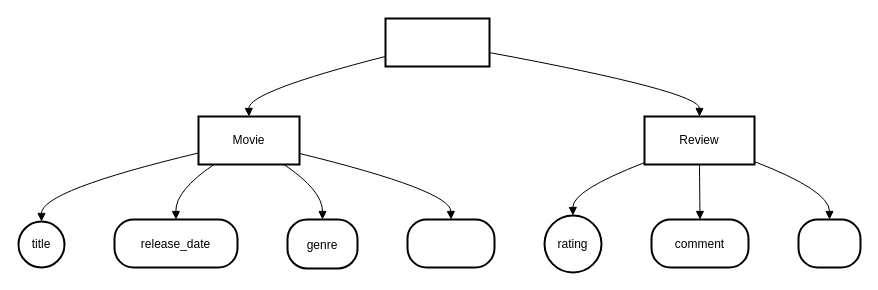
Image size: 878x290. Some labels were removed from this diagram. Each missing label, with the centre of its shape:
1 to M: point (437, 42)
date: point (829, 243)
runtime: point (450, 243)
